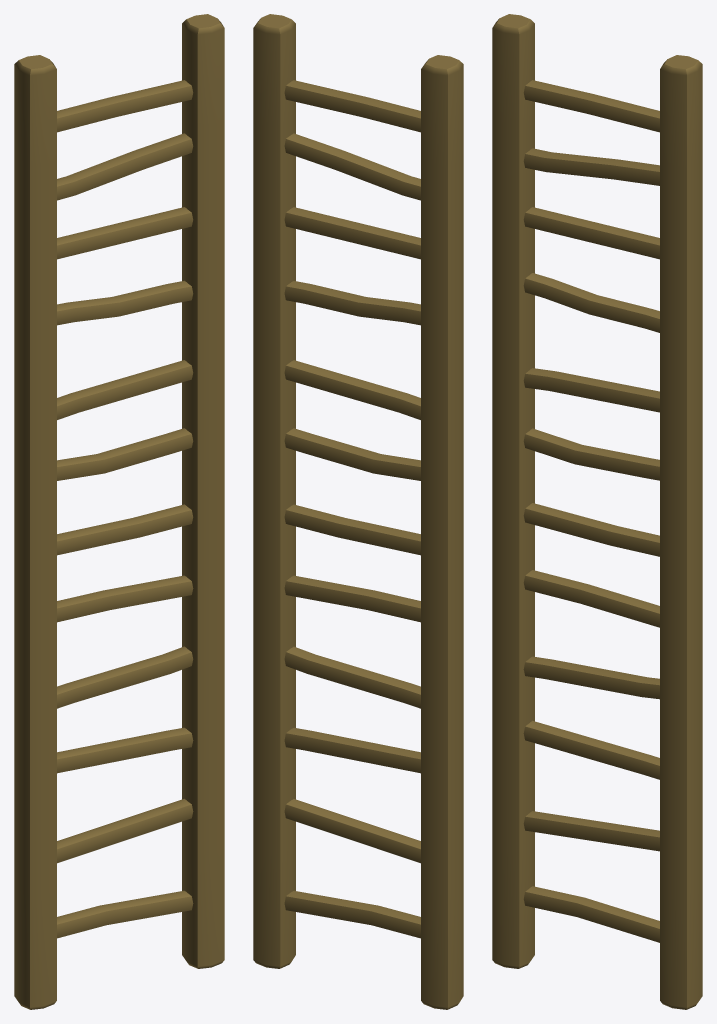
The model's file is Ladder.fbx.
3 views of the same model, side by side, from view 1: azimuth 30°, elevation 25°; view 2: azimuth 150°, elevation 25°; view 3: azimuth 330°, elevation 25° (orthographic).
Parts seen in each view (by area): view 1: ladder; view 2: ladder; view 3: ladder.
Part boxes in pixels (x1,y1,x2,y2): ladder: (14, 14, 224, 1009); ladder: (253, 14, 463, 1009); ladder: (492, 14, 702, 1009).
Size of the model in its own units: 9.18 by 40.88 by 1.54.
